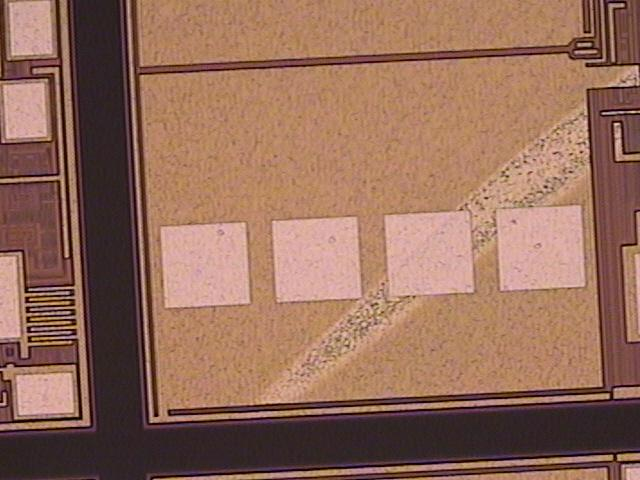BLOCK ETCH: (257, 63, 640, 419)
